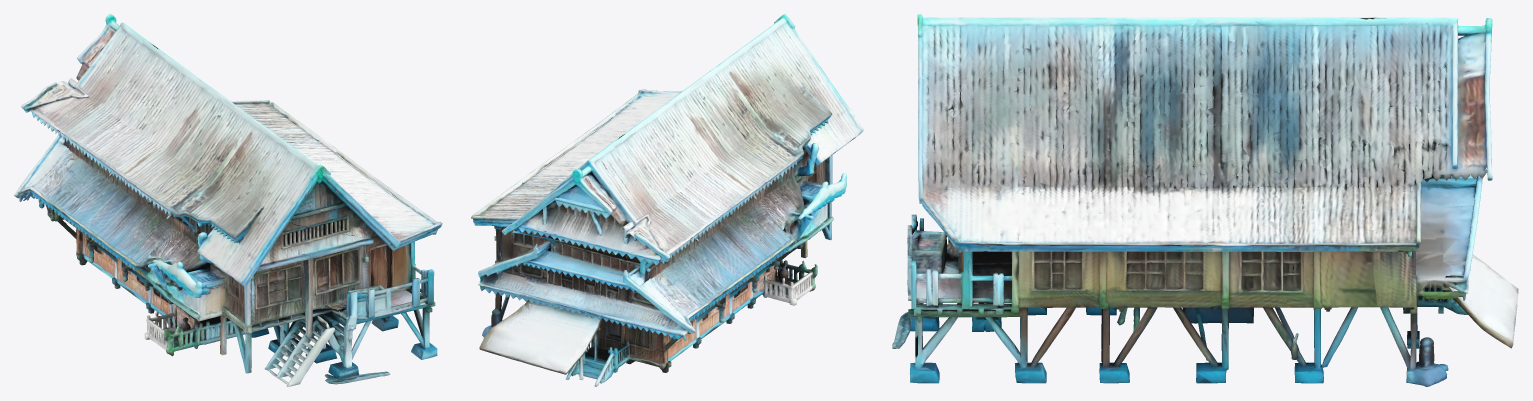
File: banua-tada.glb
The picture shows the model from 3 angles, left to right: view 1: azimuth 30°, elevation 25°; view 2: azimuth 150°, elevation 25°; view 3: azimuth 270°, elevation 25°; orthographic projection. The views are drawn at different scales.
Visible parts, largest first — view 1: Rumah adat banua tada; view 2: Rumah adat banua tada; view 3: Rumah adat banua tada.
Part boxes in pixels (box(x1,y1,x2,y2)): Rumah adat banua tada: box(14, 14, 442, 386); Rumah adat banua tada: box(471, 14, 863, 386); Rumah adat banua tada: box(892, 14, 1518, 386).
Size of the model in its own units: 1.16 by 0.9925 by 1.9.
Materials: 1 (1 with a texture image).
